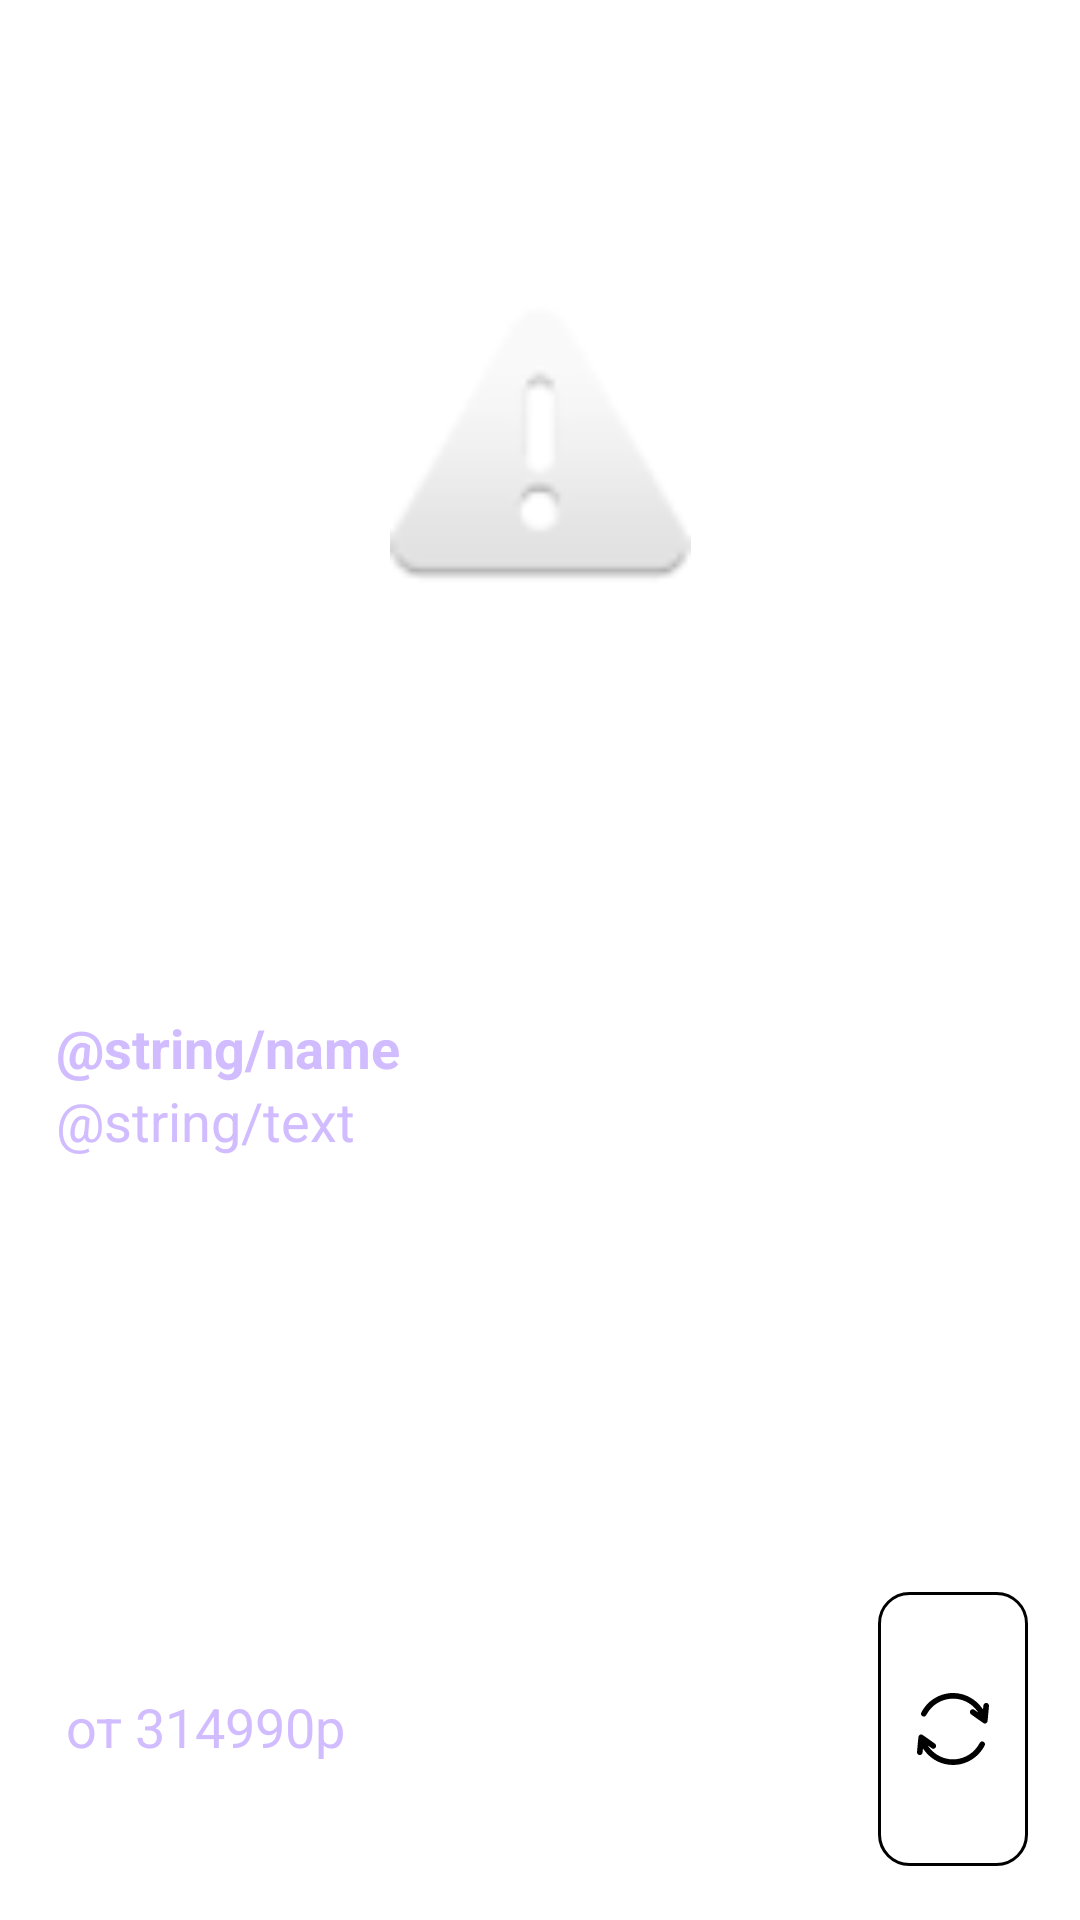

Named icons in this screenshot (1080x1920) and their bounding boxes, [x1, y1, x2, y2]:
alert: [390, 374, 691, 577]
change: [878, 1592, 1028, 1866]
